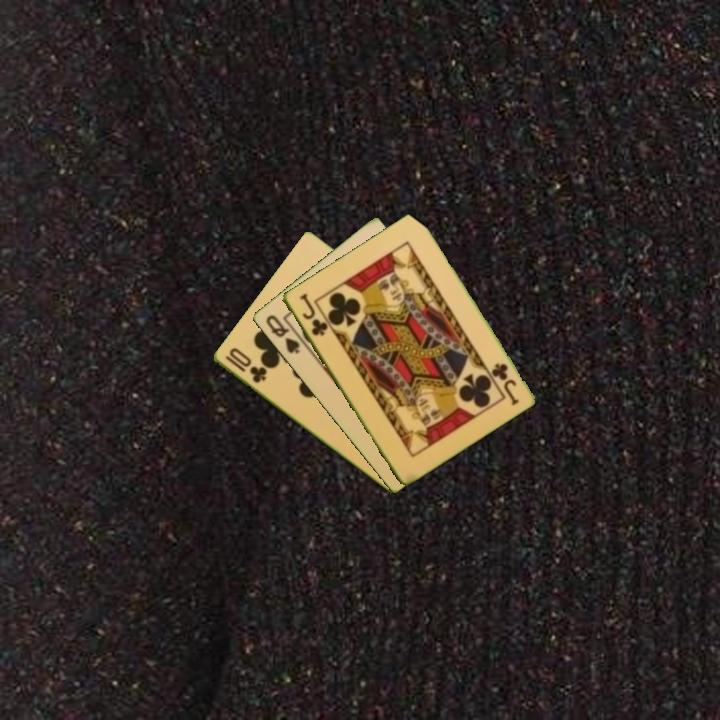10c: (221, 344, 269, 386)
Jc: (296, 290, 330, 339), (488, 359, 522, 408)
Qs: (262, 311, 303, 357)
